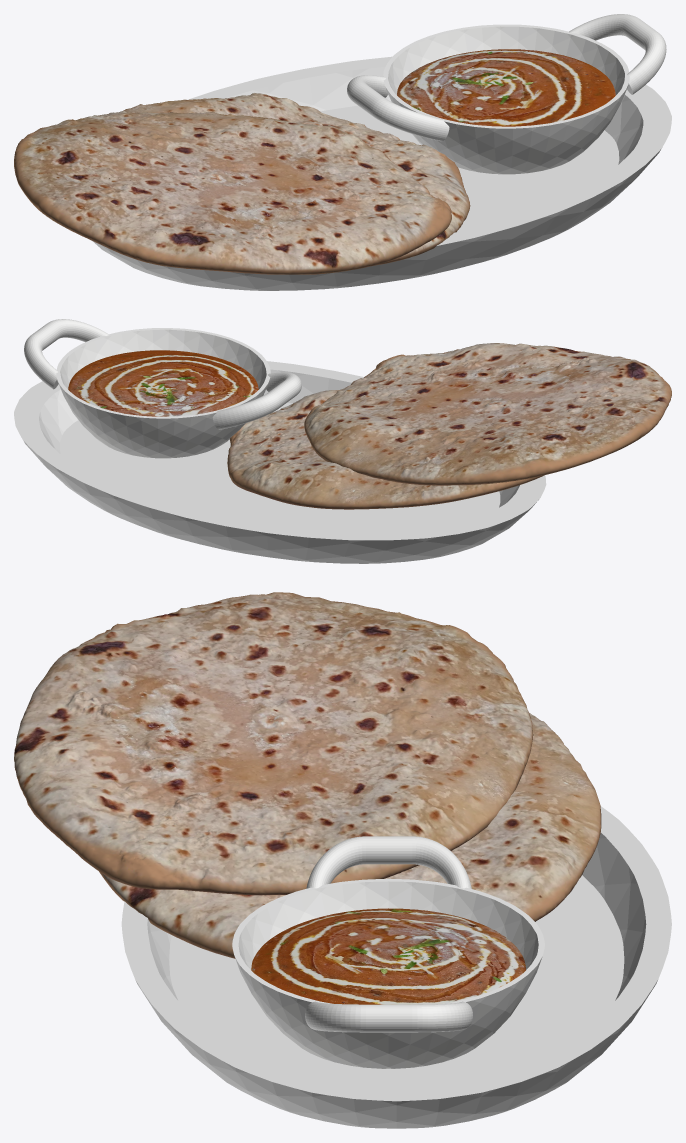
Rendered from paneer.glb.
3 renders of one model, top to bottom at view 1: azimuth 30°, elevation 25°; view 2: azimuth 150°, elevation 25°; view 3: azimuth 270°, elevation 25°, orthographic. The views are drawn at different scales.
Parts seen in each view (by area): view 1: cha05_0, group_0_undefined_2, group_0_14541540_4, cu02_2_3, cha05_1; view 2: cha05_0, group_0_undefined_2, group_0_14541540_4, cha05_1, cu02_2_3; view 3: cha05_0, group_0_undefined_2, group_0_14541540_4, cha05_1, cu02_2_3.
Boxes of the visible parts, x1,y1,x2,y2 form: cha05_0: [14, 111, 451, 274]; group_0_undefined_2: [92, 56, 671, 290]; group_0_14541540_4: [347, 14, 666, 174]; cu02_2_3: [397, 49, 615, 126]; cha05_1: [116, 93, 470, 274]; cha05_0: [304, 343, 671, 485]; group_0_undefined_2: [14, 361, 546, 563]; group_0_14541540_4: [24, 319, 301, 458]; cha05_1: [227, 387, 543, 509]; cu02_2_3: [68, 350, 258, 416]; cha05_0: [14, 592, 533, 895]; group_0_undefined_2: [121, 806, 671, 1128]; group_0_14541540_4: [232, 836, 544, 1068]; cha05_1: [99, 713, 601, 958]; cu02_2_3: [251, 908, 525, 1004].
Bounding box in the file's own units: 0.1243 × 0.0228 × 0.0847.
4 materials, 2 textured.
